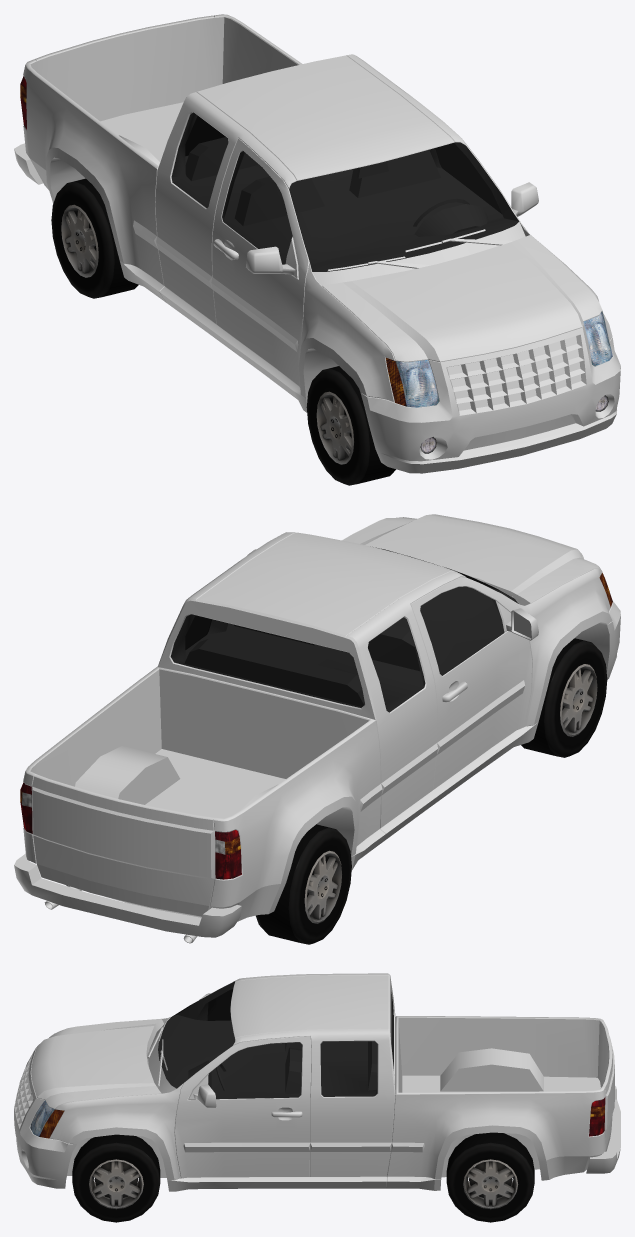
The model's file is generic-pickup.glb.
The picture shows the model from 3 angles, top to bottom: view 1: azimuth 30°, elevation 25°; view 2: azimuth 150°, elevation 25°; view 3: azimuth 270°, elevation 25°; orthographic projection. The views are drawn at different scales.
Parts seen in each view (by area): view 1: Pickup Body_Body_0, Pickup Body_Glass_0, Wheel_E002_Wheel_0, Wheel_E003_Wheel_0, Pickup Body_Optics_0; view 2: Pickup Body_Body_0, Pickup Body_Glass_0, Wheel_E003_Wheel_0, Wheel_E002_Wheel_0, Pickup Body_Optics_0; view 3: Pickup Body_Body_0, Pickup Body_Glass_0, Wheel_E001_Wheel_0, Wheel_E_Wheel_0, Pickup Body_Optics_0.
Boxes of the visible parts, x1,y1,x2,y2 form: Pickup Body_Body_0: (14,14,620,473); Pickup Body_Glass_0: (171,112,519,271); Wheel_E002_Wheel_0: (306,366,395,485); Wheel_E003_Wheel_0: (51,178,138,298); Pickup Body_Optics_0: (20,76,612,453); Pickup Body_Body_0: (14,514,620,943); Pickup Body_Glass_0: (170,547,518,712); Wheel_E003_Wheel_0: (256,824,351,944); Wheel_E002_Wheel_0: (521,638,607,757); Pickup Body_Optics_0: (20,572,612,879); Pickup Body_Body_0: (14,973,620,1191); Pickup Body_Glass_0: (158,981,393,1099); Wheel_E001_Wheel_0: (446,1132,534,1222); Wheel_E_Wheel_0: (72,1134,160,1222); Pickup Body_Optics_0: (30,1097,605,1138).
Bounding box in the file's own units: 2.07 × 1.7 × 5.18.
4 materials, 2 textured.
